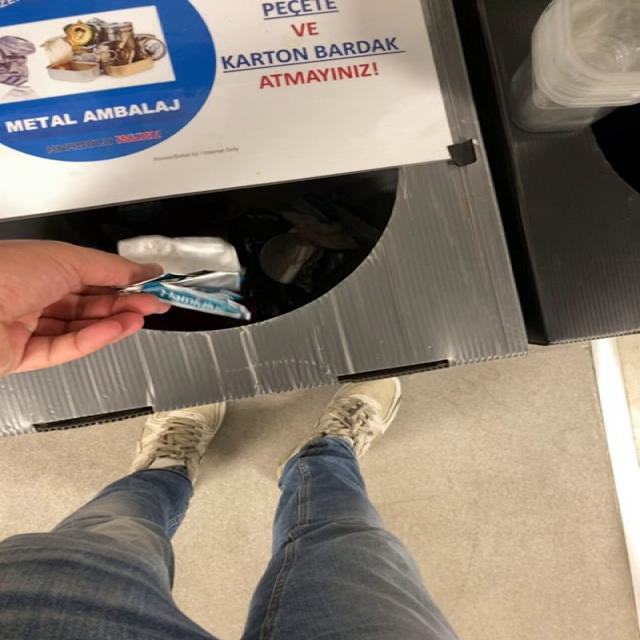Bin: (0, 0, 527, 436)
Metal: (121, 235, 243, 293), (171, 302, 249, 320)
